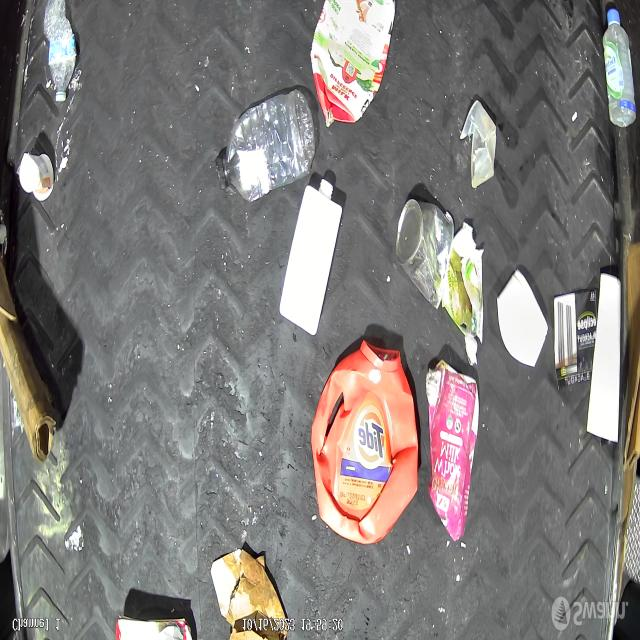can: (396, 188, 456, 308)
non_white_jug: (308, 337, 418, 554), (308, 0, 396, 127), (425, 358, 479, 541)
plastic_bottle: (216, 88, 324, 205), (598, 0, 640, 128), (39, 0, 77, 107)
